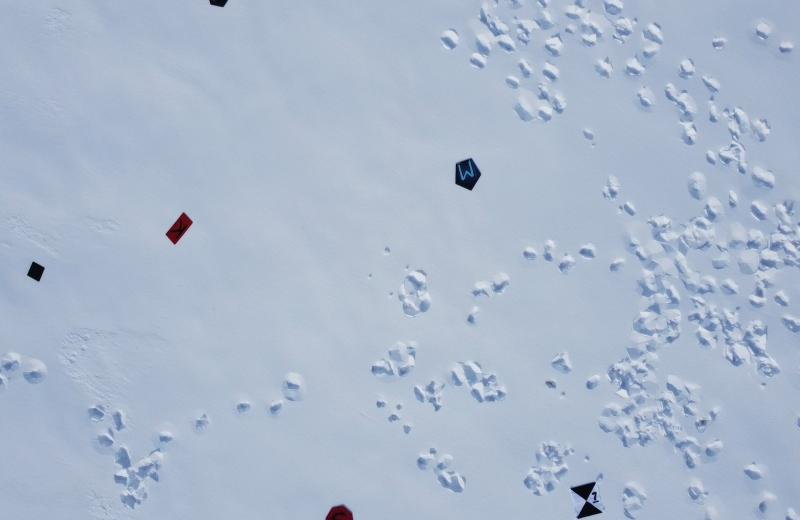Pentagon: (450, 154, 485, 197)
Rectangle: (164, 209, 197, 251)
Square: (21, 256, 46, 290)
